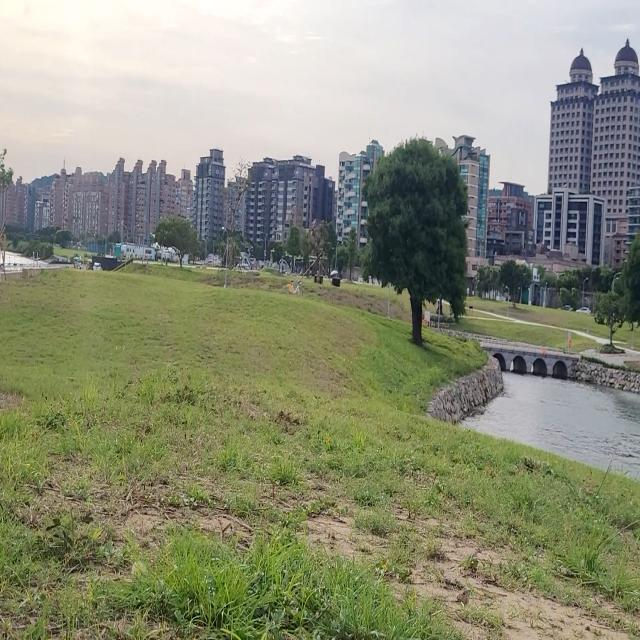red-sand: (0, 268, 640, 639)
